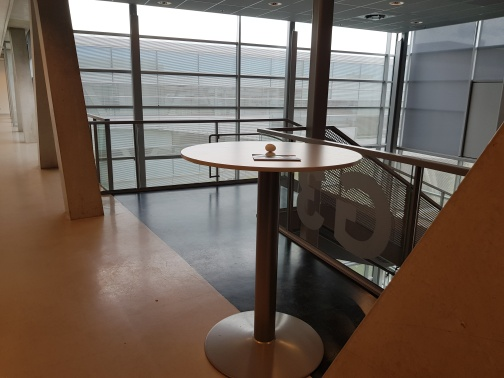egg: (264, 143, 278, 153)
